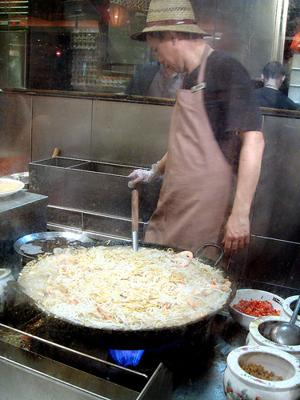person: (130, 6, 263, 274)
